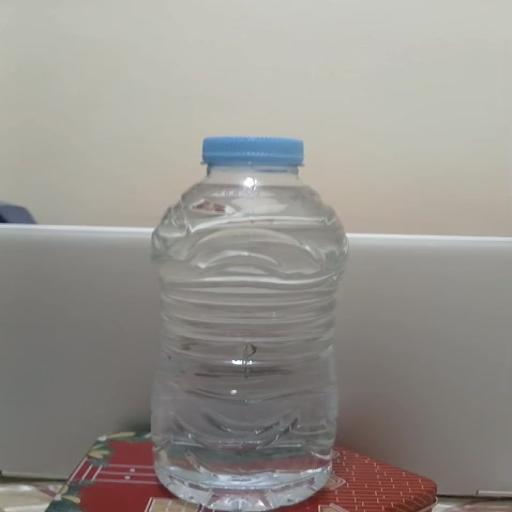bouteille non conformite: (150, 119, 388, 512), (5, 270, 438, 392)
